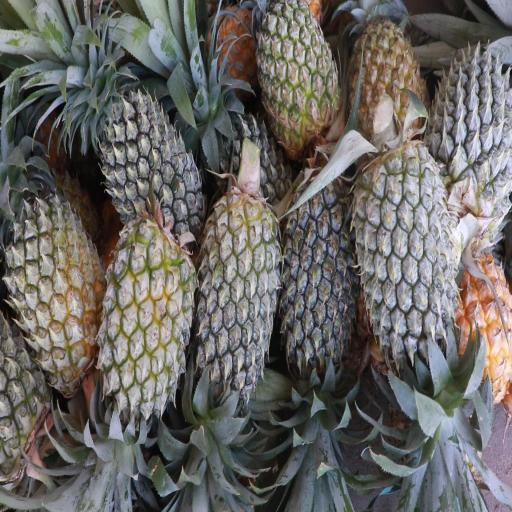------------------------------: (102, 224, 194, 422), (10, 200, 103, 386), (256, 2, 339, 150), (351, 10, 424, 145)
Pineapple - v8 v1: (456, 250, 512, 402)
